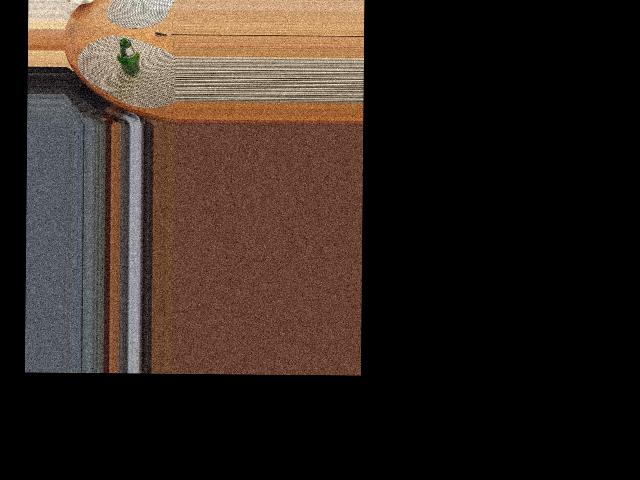beer: (116, 38, 139, 75)
